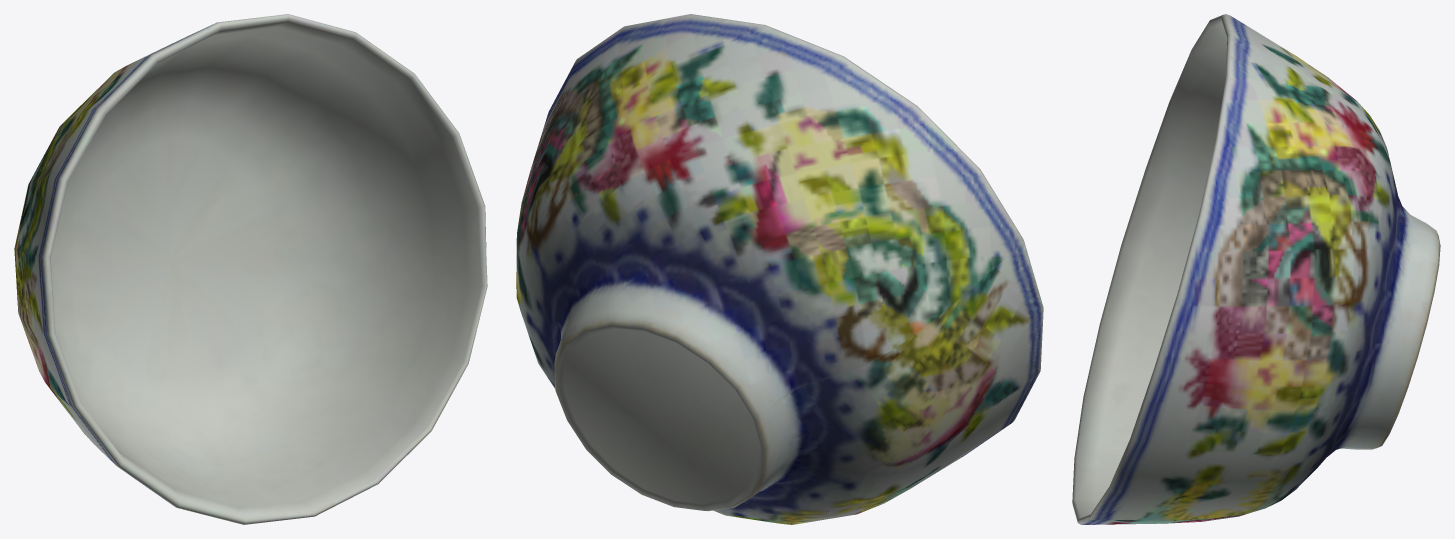
The model's file is ref_chinabowl.fbx.
3 views of the same model, side by side, from view 1: azimuth 30°, elevation 25°; view 2: azimuth 150°, elevation 25°; view 3: azimuth 270°, elevation 25° (orthographic). The views are drawn at different scales.
Visible parts, largest first — view 1: ref_chinabowl; view 2: ref_chinabowl; view 3: ref_chinabowl.
Part boxes in pixels (left/top/right/bottom): ref_chinabowl: left=14, top=14, right=487, bottom=524; ref_chinabowl: left=516, top=14, right=1043, bottom=524; ref_chinabowl: left=1072, top=14, right=1440, bottom=524.
Bounding box in the file's own units: 100 × 96.52 × 69.61.
Materials: 1 (1 with a texture image).
